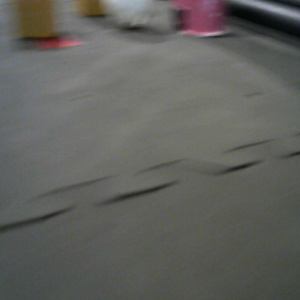right: (165, 1, 231, 36)
